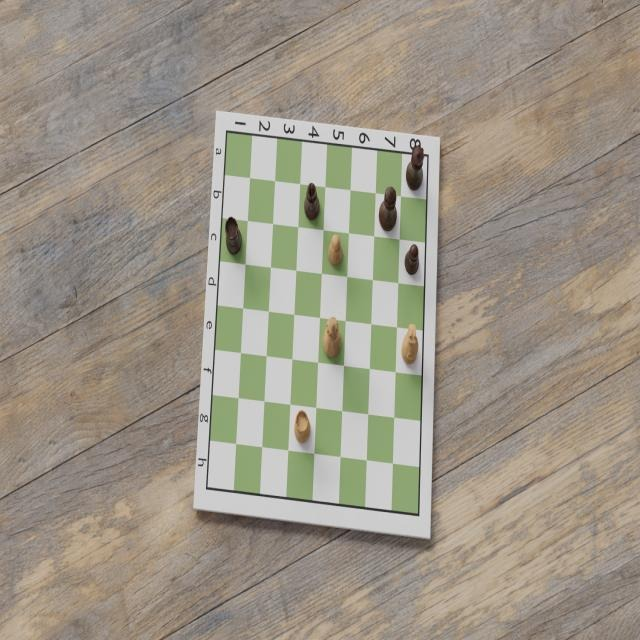black-bishop: (303, 181, 321, 223)
black-king: (378, 186, 398, 234)
black-pawn: (403, 242, 420, 277)
black-queen: (405, 144, 425, 194)
black-rook: (224, 215, 244, 257)
white-king: (321, 315, 343, 360)
white-knight: (399, 321, 420, 368)
white-pawn: (327, 234, 345, 270)
white-rook: (292, 409, 312, 447)
